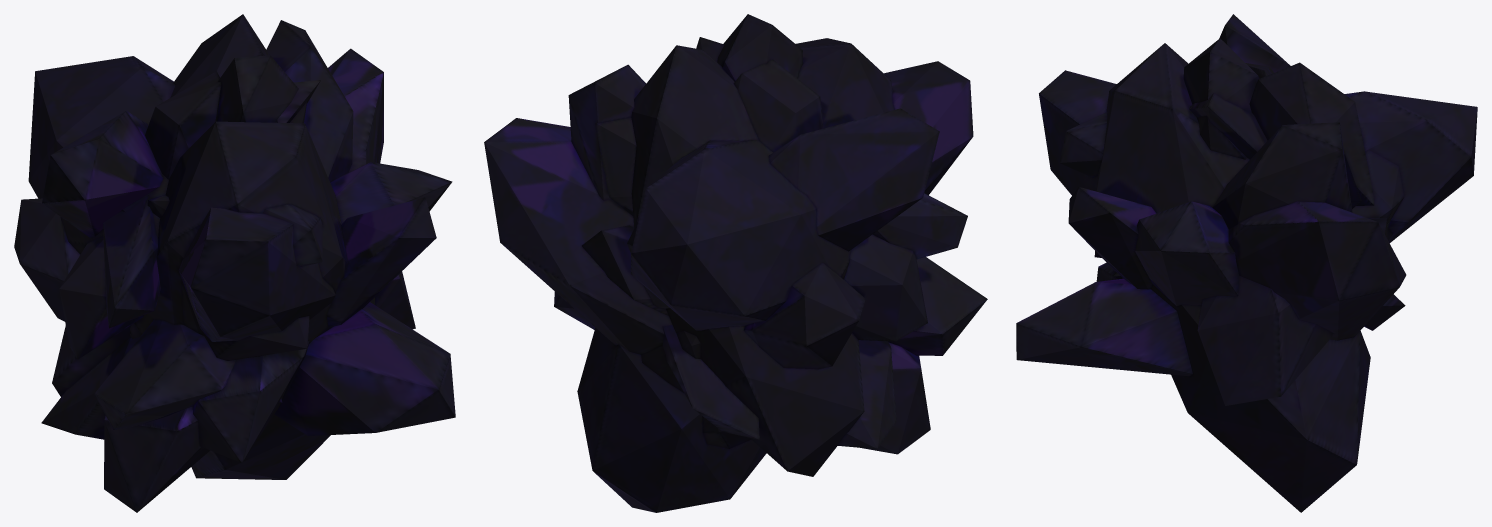
The model's file is cristal_gordo.fbx.
3 views of the same model, side by side, from view 1: azimuth 30°, elevation 25°; view 2: azimuth 150°, elevation 25°; view 3: azimuth 270°, elevation 25° (orthographic). The views are drawn at different scales.
Visible parts, largest first — view 1: Gema gorda.001; view 2: Gema gorda.001; view 3: Gema gorda.001.
Part boxes in pixels (bbox=[...]): Gema gorda.001: bbox=[14, 14, 455, 512]; Gema gorda.001: bbox=[484, 14, 987, 512]; Gema gorda.001: bbox=[1016, 14, 1477, 512].
Size of the model in its own units: 8340 by 9735 by 9423.
1 material, 1 textured.
